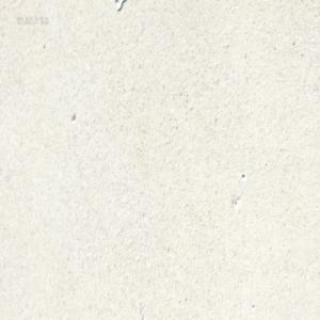Wrenchtrack_idkeyframe: (114, 0, 122, 9)
